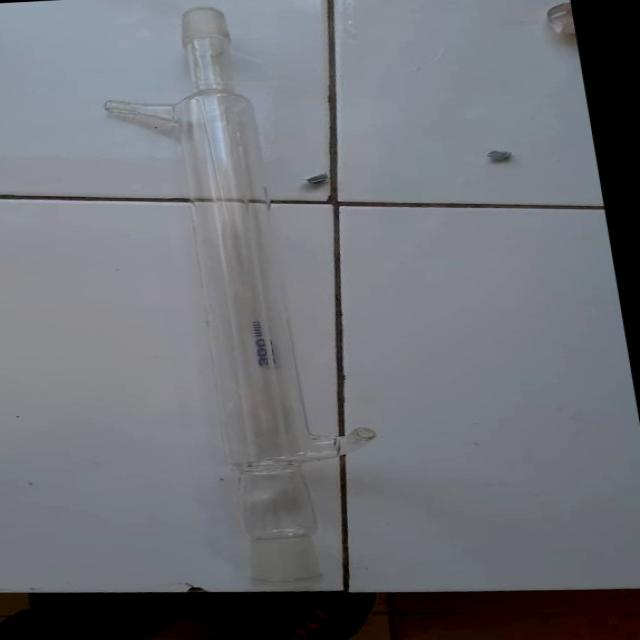Distillation: (65, 0, 420, 602)
